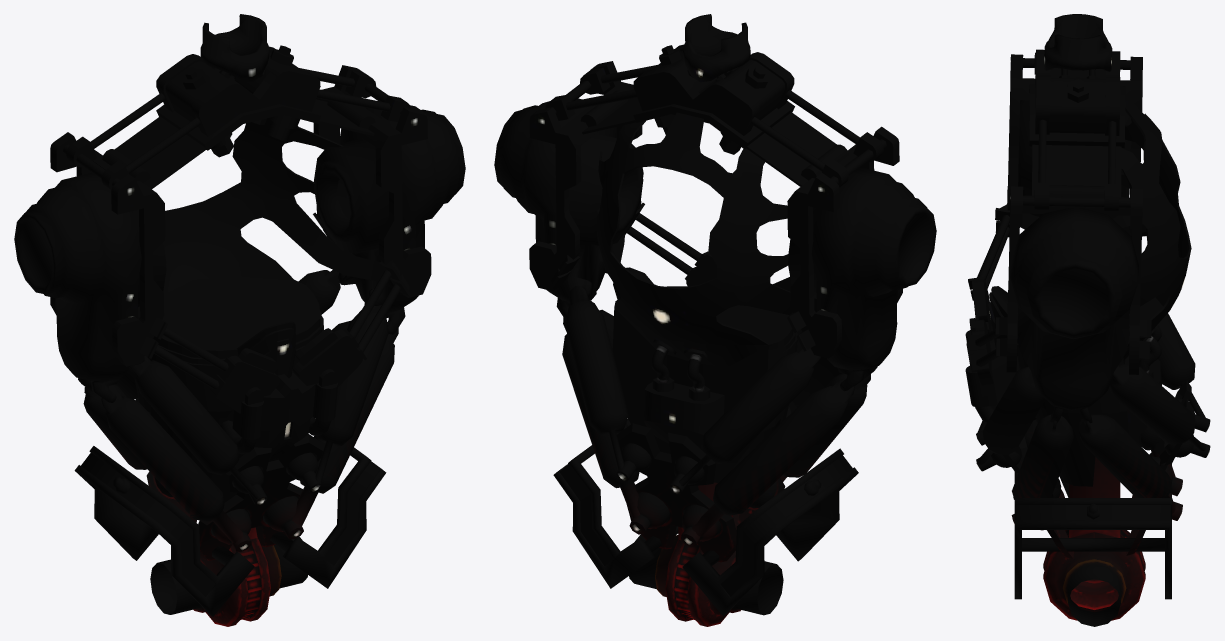
Rendered from torso.gltf.
The picture shows the model from 3 angles, left to right: view 1: azimuth 30°, elevation 25°; view 2: azimuth 150°, elevation 25°; view 3: azimuth 270°, elevation 25°; orthographic projection. The views are drawn at different scales.
Parts seen in each view (by area): view 1: MP_FRAME_TORSO; view 2: MP_FRAME_TORSO; view 3: MP_FRAME_TORSO.
Boxes of the visible parts, left/top/right/bottom form: MP_FRAME_TORSO: left=14, top=14, right=465, bottom=626; MP_FRAME_TORSO: left=494, top=14, right=936, bottom=626; MP_FRAME_TORSO: left=965, top=14, right=1210, bottom=626.
Size of the model in its own units: 0.649 by 0.9097 by 0.3427.
